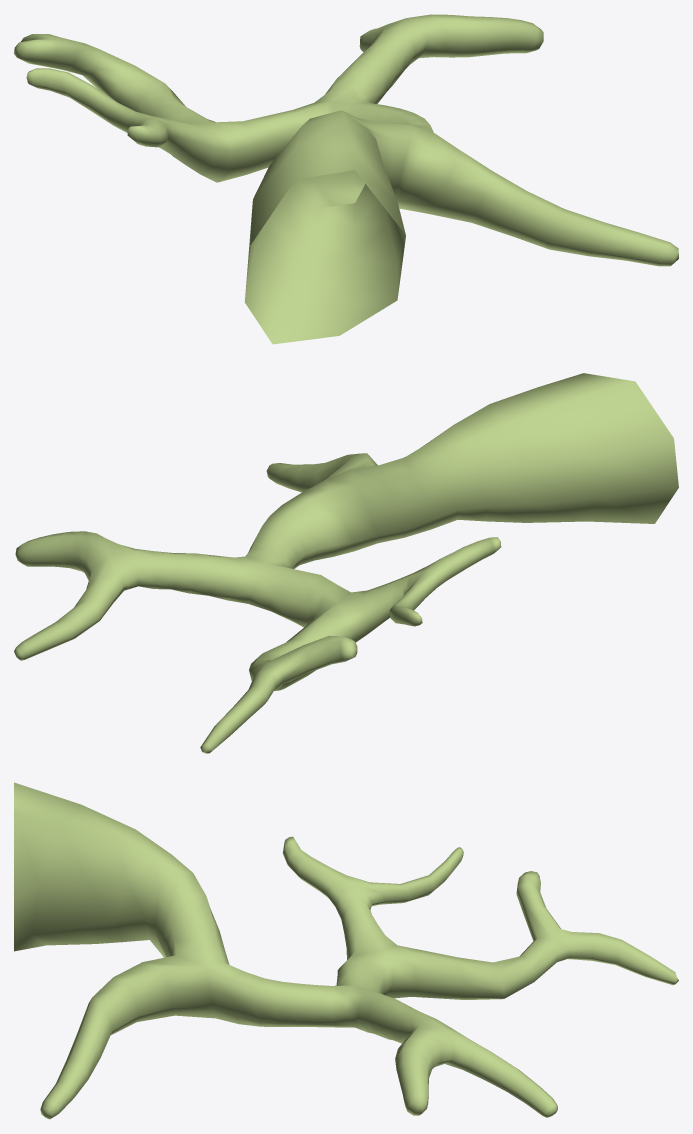
The model's file is Big tree branches_01.fbx.
3 renders of one model, top to bottom at view 1: azimuth 30°, elevation 25°; view 2: azimuth 150°, elevation 25°; view 3: azimuth 270°, elevation 25°, orthographic. The views are drawn at different scales.
Parts seen in each view (by area): view 1: polySurface590; view 2: polySurface590; view 3: polySurface590.
Boxes of the visible parts, x1,y1,x2,y2 form: polySurface590: [14, 14, 678, 344]; polySurface590: [14, 373, 678, 753]; polySurface590: [14, 782, 678, 1119].
Size of the model in its own units: 110 by 38.7 by 138.
